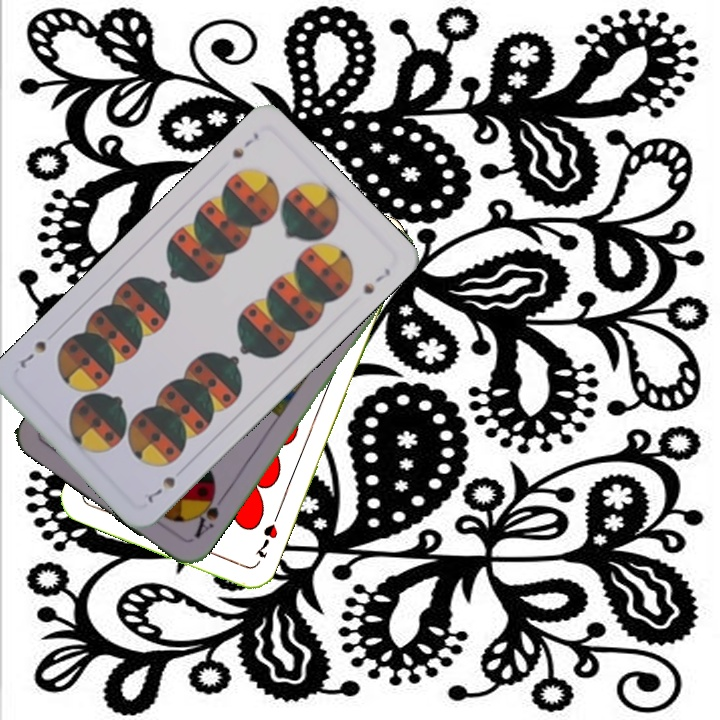H7: (252, 519, 281, 561)
S7: (143, 472, 178, 506), (228, 128, 262, 161)
SA: (189, 485, 228, 541)
